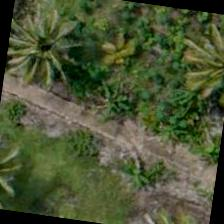Kelapa_Sawit: (2, 0, 93, 97), (169, 15, 223, 113)
